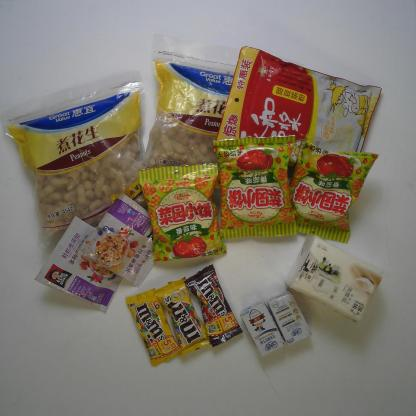Chocolate: (182, 264, 244, 350), (152, 276, 212, 357), (124, 287, 182, 368)
Dried Food: (0, 70, 148, 265), (146, 32, 236, 190)
Instant Drink: (212, 45, 382, 154), (34, 216, 123, 315), (75, 192, 155, 288)
Milk: (240, 298, 286, 358), (266, 290, 311, 347)
Puffed Food: (288, 140, 381, 244), (137, 161, 228, 263), (213, 134, 299, 240)
Tissue: (284, 234, 384, 325)
